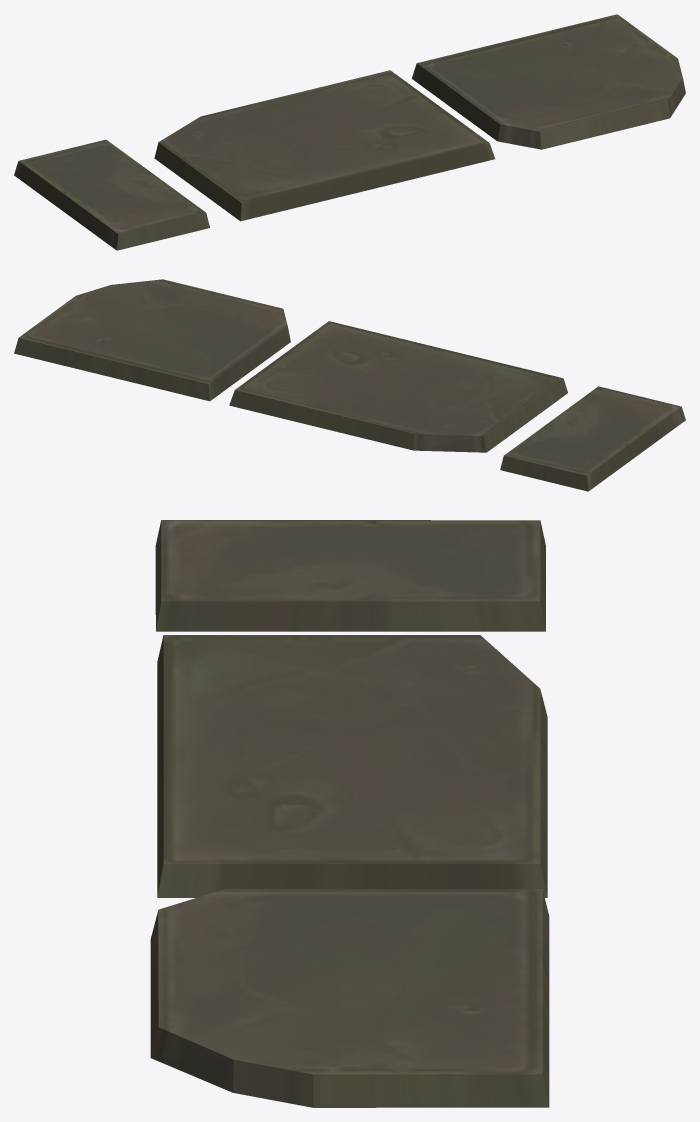
File: FB4_shizhuan01.FBX
3 views of the same model, one above another, from view 1: azimuth 30°, elevation 25°; view 2: azimuth 150°, elevation 25°; view 3: azimuth 270°, elevation 25° (orthographic). The views are drawn at different scales.
Parts seen in each view (by area): view 1: FB4_shizhuan01_002, FB4_shizhuan01_001, FB4_shizhuan01_003; view 2: FB4_shizhuan01_002, FB4_shizhuan01_001, FB4_shizhuan01_003; view 3: FB4_shizhuan01_002, FB4_shizhuan01_001, FB4_shizhuan01_003.
Boxes of the visible parts, x1,y1,x2,y2 form: FB4_shizhuan01_002: (154,70,494,221); FB4_shizhuan01_001: (412,14,685,149); FB4_shizhuan01_003: (14,139,209,250); FB4_shizhuan01_002: (229,321,567,452); FB4_shizhuan01_001: (14,279,290,401); FB4_shizhuan01_003: (500,386,685,491); FB4_shizhuan01_002: (157,635,547,897); FB4_shizhuan01_001: (150,889,549,1107); FB4_shizhuan01_003: (155,520,545,631).
Bounding box in the file's own units: 580 × 14.75 × 175.
Materials: 1 (1 with a texture image).
